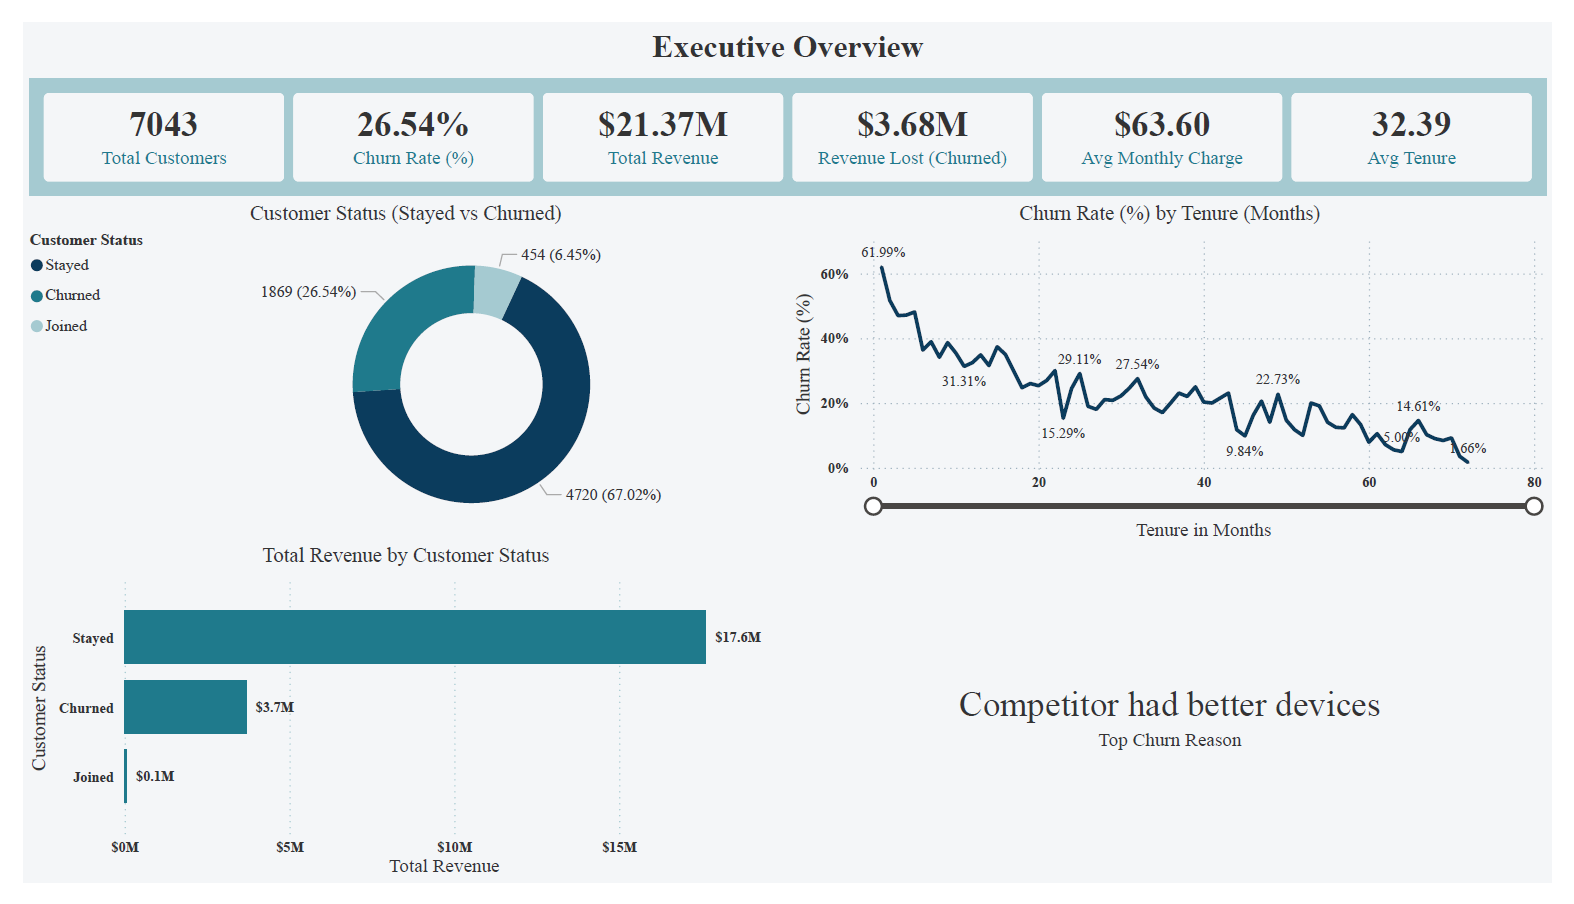

What the dashboard file says about the page in this screenshot:
{"tool":"powerbi","page":{"name":"Executive Overview","canvas":[1280,720],"ordinal":0},"visuals":[{"type":"barChart","fields":{"Category":["telecom_customer_churn_data.Customer Status"],"Y":["Measure.Total Revenue"]},"box":[0,436.6,639.5,283.7],"z":0},{"type":"cardVisual","fields":{"Data":["Measure.Total Customers","Measure.Churn Rate (%)","Measure.Total Revenue","Measure.Revenue Lost (Churned)","Measure.Avg Monthly Charge","Measure.Avg Tenure"]},"box":[0,41.6,1280.3,108.8],"z":1000},{"type":"donutChart","title":"Customer Status (Stayed vs Churned)","fields":{"Category":["telecom_customer_churn_data.Customer Status"],"Y":["Measure.Total_Customer"]},"box":[0,150.4,639.5,286.1],"z":2000},{"type":"textbox","box":[0,0,1280.3,41.6],"z":3000},{"type":"lineChart","title":"Churn Rate (%) by Tenure (Months)","fields":{"Category":["telecom_customer_churn_data.Tenure in Months"],"Y":["Measure.Churn Rate (%)"]},"box":[639.5,150.4,640.8,286.1],"z":4000},{"type":"card","title":"Top 3 Churn Reason","fields":{"Values":["Measure.Top Churn Reason"]},"box":[639.5,436.6,640.8,283.7],"z":5000}]}

Visuals, with their boxes in screenshot pixels (x1, y1, x2, y2), scaled from the page's 1280x720 canvas onto the 1574x904 screenshot:
barChart - telecom_customer_churn_data.Customer Status x Measure.Total Revenue: <region>0, 548, 786, 903</region>
cardVisual - Measure.Total Customers x Measure.Churn Rate (%): <region>0, 52, 1573, 189</region>
"Customer Status (Stayed vs Churned)" donutChart: <region>0, 189, 786, 548</region>
textbox: <region>0, 0, 1573, 52</region>
"Churn Rate (%) by Tenure (Months)" lineChart: <region>786, 189, 1573, 548</region>
"Top 3 Churn Reason" card: <region>786, 548, 1573, 903</region>
